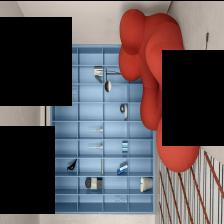red: (119, 8, 187, 129), (157, 105, 201, 172)
